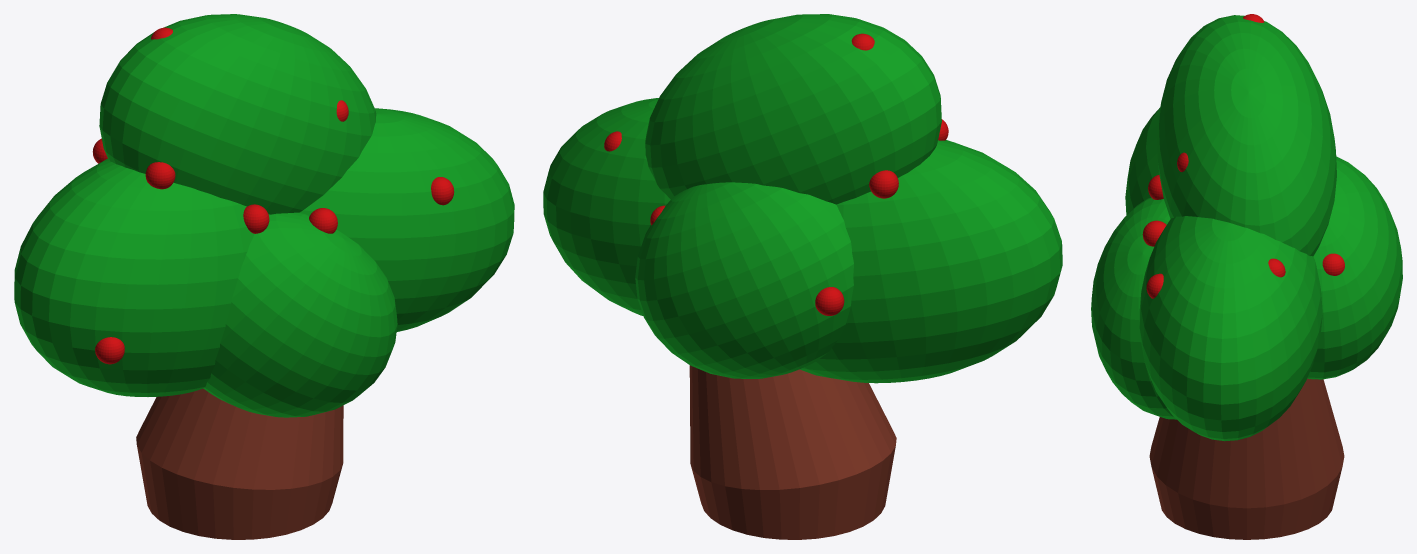
Rendered from Куст с ягодами.obj.
3 views of the same model, side by side, from view 1: azimuth 30°, elevation 25°; view 2: azimuth 150°, elevation 25°; view 3: azimuth 270°, elevation 25° (orthographic). The views are drawn at different scales.
Visible parts, largest first — view 1: Sphere.001, Sphere, Sphere.004, Sphere.002, Circle, Sphere.015, Sphere.011, Sphere.005; view 2: Sphere, Sphere.001, Sphere.003, Circle, Sphere.002, Sphere.013, Sphere.012; view 3: Sphere, Sphere.002, Circle, Sphere.003, Sphere.004, Sphere.001, Sphere.006, Sphere.007.
Part boxes in pixels (x1=…): Sphere.001: x1=14, y1=158, x2=269, y2=396; Sphere: x1=99, y1=14, x2=376, y2=214; Sphere.004: x1=203, y1=212, x2=397, y2=417; Sphere.002: x1=300, y1=108, x2=514, y2=331; Circle: x1=136, y1=388, x2=343, y2=539; Sphere.015: x1=145, y1=162, x2=175, y2=189; Sphere.011: x1=95, y1=337, x2=124, y2=364; Sphere.005: x1=243, y1=204, x2=269, y2=233; Sphere: x1=645, y1=14, x2=941, y2=204; Sphere.001: x1=800, y1=140, x2=1062, y2=383; Sphere.003: x1=635, y1=182, x2=853, y2=378; Circle: x1=689, y1=365, x2=896, y2=539; Sphere.002: x1=543, y1=98, x2=670, y2=315; Sphere.013: x1=815, y1=287, x2=844, y2=315; Sphere.012: x1=869, y1=170, x2=898, y2=198; Sphere: x1=1157, y1=15, x2=1336, y2=256; Sphere.002: x1=1139, y1=216, x2=1322, y2=441; Circle: x1=1149, y1=378, x2=1344, y2=539; Sphere.003: x1=1307, y1=156, x2=1402, y2=379; Sphere.004: x1=1091, y1=197, x2=1176, y2=419; Sphere.001: x1=1125, y1=107, x2=1160, y2=215; Sphere.006: x1=1142, y1=220, x2=1166, y2=246; Sphere.007: x1=1322, y1=253, x2=1344, y2=275.
Size of the model in its own units: 3.07 by 2.93 by 1.8.
